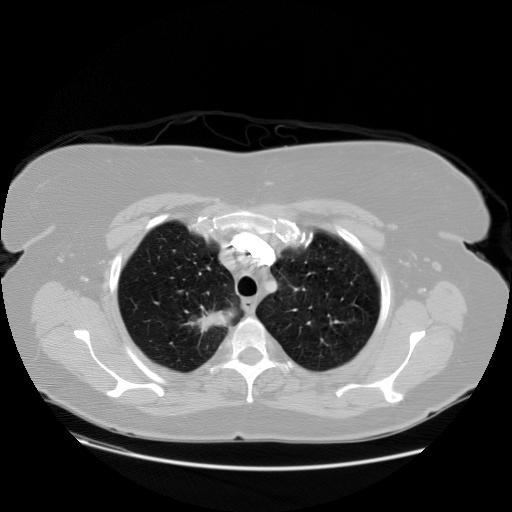nodule: (198, 306, 228, 336)
